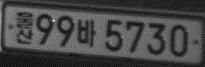0: (169, 23, 188, 57)
3: (148, 21, 165, 55)
5: (104, 18, 122, 51)
7: (124, 20, 146, 53)
9: (35, 11, 55, 46), (56, 14, 75, 48)
바: (77, 18, 97, 47)
울산_V: (15, 11, 34, 45)
